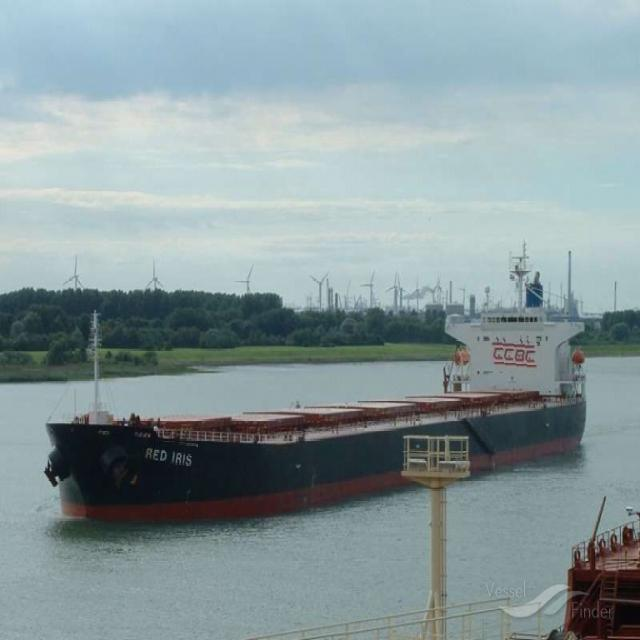OCR: (484, 333, 540, 373), (138, 438, 198, 468)
